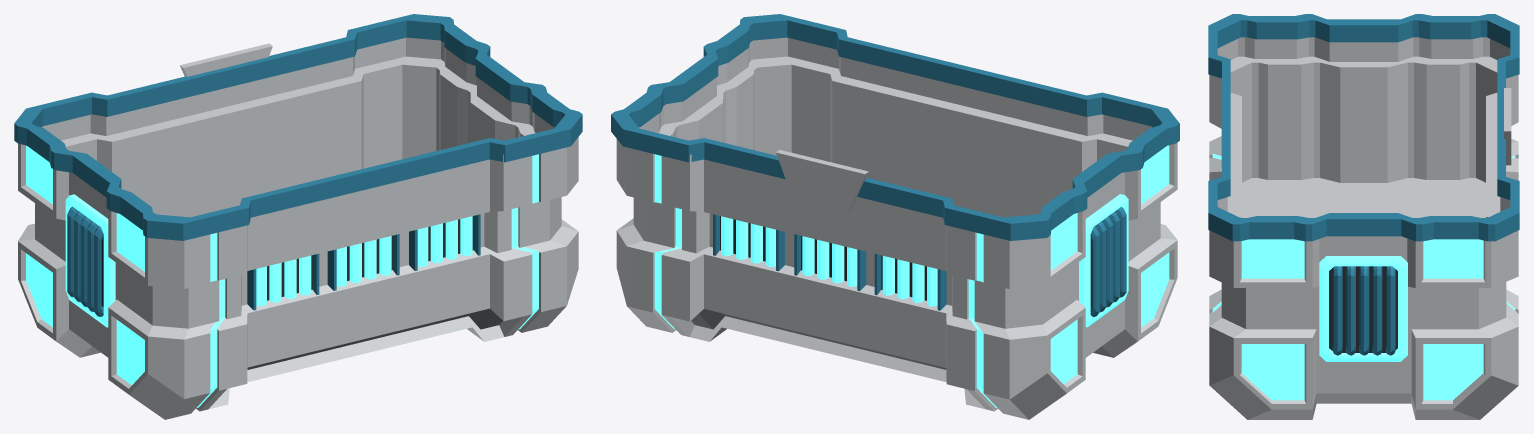
Rendered from chest_chestbottom-D25ahtNh.glb.
The picture shows the model from 3 angles, left to right: view 1: azimuth 30°, elevation 25°; view 2: azimuth 150°, elevation 25°; view 3: azimuth 270°, elevation 25°; orthographic projection.
Visible parts, largest first — view 1: Props_ChestBottom; view 2: Props_ChestBottom; view 3: Props_ChestBottom.
Boxes of the visible parts, x1,y1,x2,y2 form: Props_ChestBottom: (14, 14, 582, 419); Props_ChestBottom: (611, 14, 1179, 419); Props_ChestBottom: (1208, 14, 1519, 419).
Bounding box in the file's own units: 1.29 × 0.6239 × 0.8052.
